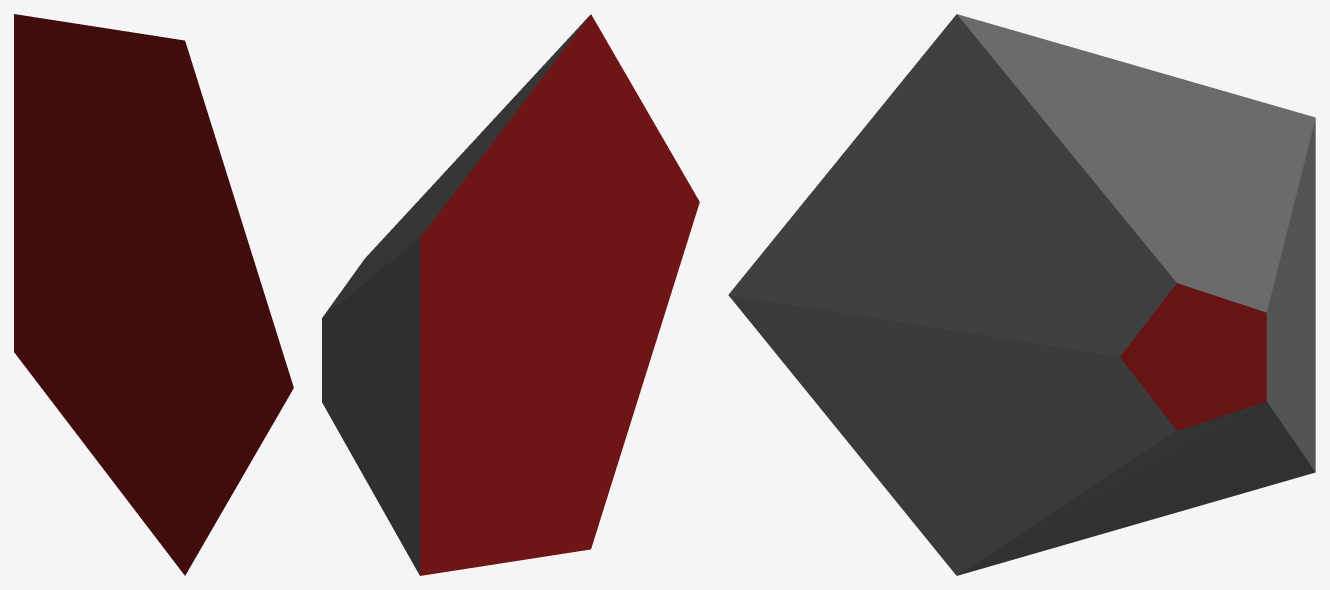
The model's file is tharglet.obj.
3 views of the same model, side by side, from view 1: azimuth 30°, elevation 25°; view 2: azimuth 150°, elevation 25°; view 3: azimuth 270°, elevation 25° (orthographic). The views are drawn at different scales.
Bounding box in the file's own units: 18 × 76 × 72.
